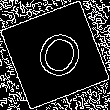O_SW: (25, 23, 85, 87)
